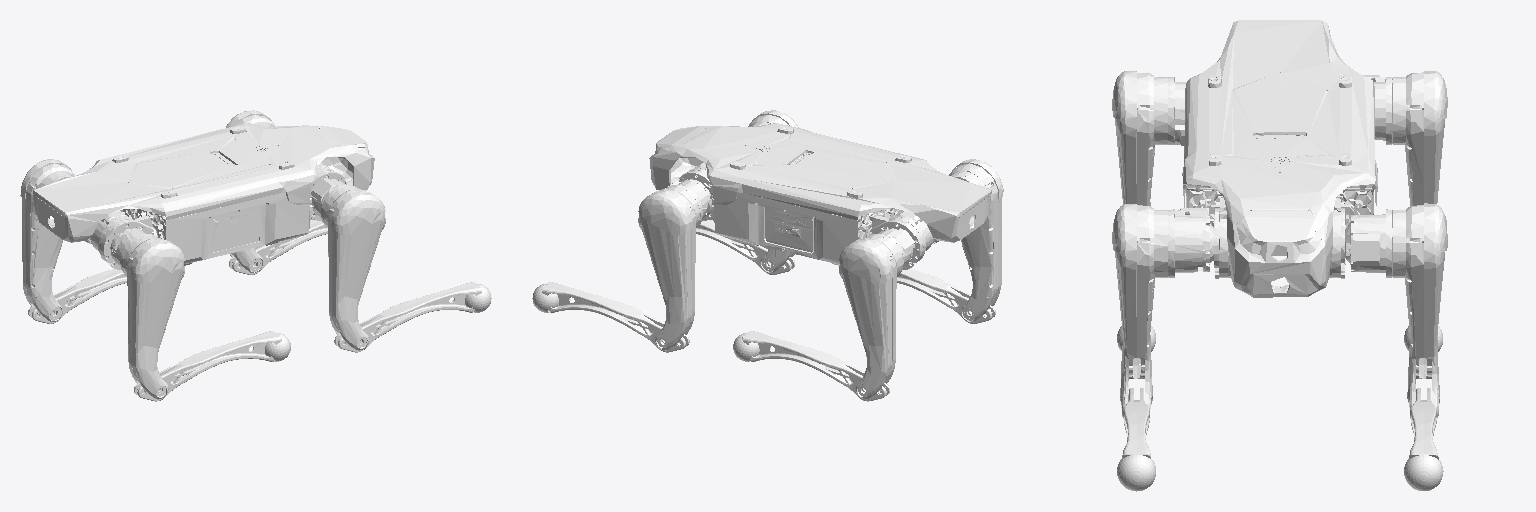
--- Facts derived from the render (not from the file) ---
The picture shows the robot from 3 angles, left to right: view 1: azimuth 30°, elevation 25°; view 2: azimuth 150°, elevation 25°; view 3: azimuth 270°, elevation 25°; orthographic projection.
Robot: Lite3 — 18 links, 17 joints (12 revolute, 5 fixed); root link TORSO; default pose: all joints at 0 but 4 set to mid-range because 0 is outside their limits (FL_Knee_joint = 1.66, FR_Knee_joint = 1.66, HL_Knee_joint = 1.66, HR_Knee_joint = 1.66).
Visible links, largest first — view 1: TORSO, FR_THIGH, HR_THIGH, HL_THIGH, HR_SHANK, FR_SHANK, HL_SHANK, HR_HIP, FL_SHANK, FL_THIGH; view 2: TORSO, HL_THIGH, FL_THIGH, HR_THIGH, FL_SHANK, HL_SHANK, HR_SHANK, HL_HIP, FR_SHANK, FR_THIGH, FL_HIP; view 3: TORSO, FR_THIGH, FL_THIGH, HL_THIGH, HR_THIGH, FL_SHANK, FR_SHANK, FR_FOOT, FL_FOOT, FR_HIP, FL_HIP.
Boxes of the visible links, x1=… form: TORSO: x1=33, y1=123, x2=374, y2=265; FR_THIGH: x1=311, y1=178, x2=385, y2=350; HR_THIGH: x1=111, y1=228, x2=184, y2=399; HL_THIGH: x1=20, y1=159, x2=74, y2=321; HR_SHANK: x1=134, y1=331, x2=281, y2=401; FR_SHANK: x1=334, y1=282, x2=481, y2=352; HL_SHANK: x1=28, y1=269, x2=126, y2=323; HR_HIP: x1=90, y1=211, x2=157, y2=269; FL_SHANK: x1=229, y1=220, x2=327, y2=274; FL_THIGH: x1=226, y1=110, x2=275, y2=272; TORSO: x1=649, y1=123, x2=991, y2=265; HL_THIGH: x1=839, y1=228, x2=914, y2=398; FL_THIGH: x1=638, y1=179, x2=711, y2=350; HR_THIGH: x1=949, y1=159, x2=1003, y2=321; FL_SHANK: x1=541, y1=282, x2=689, y2=352; HL_SHANK: x1=742, y1=331, x2=889, y2=401; HR_SHANK: x1=897, y1=269, x2=995, y2=323; HL_HIP: x1=867, y1=211, x2=933, y2=269; FR_SHANK: x1=696, y1=220, x2=794, y2=274; FR_THIGH: x1=748, y1=110, x2=798, y2=272; FL_HIP: x1=679, y1=162, x2=713, y2=220; TORSO: x1=1182, y1=20, x2=1377, y2=297; FR_THIGH: x1=1112, y1=204, x2=1213, y2=418; FL_THIGH: x1=1345, y1=203, x2=1447, y2=418; HL_THIGH: x1=1363, y1=71, x2=1447, y2=205; HR_THIGH: x1=1112, y1=71, x2=1186, y2=206; FL_SHANK: x1=1409, y1=388, x2=1438, y2=459; FR_SHANK: x1=1122, y1=388, x2=1150, y2=458; FR_FOOT: x1=1117, y1=455, x2=1155, y2=491; FL_FOOT: x1=1404, y1=455, x2=1443, y2=490; FR_HIP: x1=1210, y1=196, x2=1238, y2=278; FL_HIP: x1=1329, y1=196, x2=1350, y2=278.
Size in the robot's own frame: 0.675 by 0.3724 by 0.2928 metres.
13 mesh visuals loaded from 13 distinct referenced files (13 binary STL).

The robot description file, URDF, robot "Lite3":
<?xml version="1.0" encoding="utf-8"?>
<!-- This URDF was automatically created by SolidWorks to URDF Exporter! Originally created by Stephen Brawner ([email redacted]) 
     Commit Version: 1.6.0-4-g7f85cfe  Build Version: 1.6.7995.38578
     For more information, please see http://wiki.ros.org/sw_urdf_exporter -->
<robot name="Lite3">
    <!-- <mujoco>
        <compiler meshdir="package://lite3_description/meshes/" balanceinertia="false" discardvisual="false"/>
    </mujoco> -->
    <link name="TORSO">
        <inertial>
            <origin xyz="0 0 0" rpy="0 0 0"/>
            <mass value="5.6056"/>
            <inertia ixx="0.02456" ixy="0" ixz="0" iyy="0.05518" iyz="0" izz="0.07016"/>
        </inertial>
        <visual>
            <origin xyz="0 0 0" rpy="0 0 0"/>
            <geometry>
                <mesh filename="package://lite3_description/meshes/torso.STL"/>
            </geometry>
            <material name="">
                <color rgba="1 1 1 1"/>
            </material>
        </visual>
        <collision>
            <origin xyz="0 0 0.01" rpy="0 0 0"/>
            <geometry>
                <box size="0.5 0.1 0.12"/>
            </geometry>
        </collision>
        <collision>
            <origin xyz="0 0 0.01" rpy="0 0 0"/>
            <geometry>
                <box size="0.25 0.2 0.12"/>
            </geometry>
        </collision>
    </link>

    <!--!!!!!!!!!!!! Front Left Leg !!!!!!!!!!!!!!!!!!!!!!!!!!!!!!!!!!!!-->

    <link name="FL_HIP">
        <inertial>
            <origin xyz="-0.00601 -0.0066532 0.00034295" rpy="0 0 0"/>
            <mass value="0.550"/>
            <inertia ixx="0.0003949" ixy="0" ixz="0" iyy="0.0004028" iyz="0" izz="0.0004472"/>
        </inertial>
        <visual>
            <origin xyz="0 0 0" rpy="0 0 0"/>
            <geometry>
                <mesh filename="package://lite3_description/meshes/fl_hip.STL"/>
            </geometry>
            <material name="">
                <color rgba="1 1 1 1"/>
            </material>
        </visual>
        <collision>
            <origin xyz="0 0.05 0" rpy="1.57079632 0 0"/>
            <geometry>
                <cylinder length="0.15" radius="0.04"/>
            </geometry>
        </collision>
    </link>
    <joint name="FL_HipX_joint" type="revolute">
        <origin xyz="0.1745 0.062 0" rpy="0 0 0"/>
        <parent link="TORSO"/>
        <child link="FL_HIP"/>
        <axis xyz="-1 0 0"/>
        <limit lower="-0.523" upper="0.523" effort="24" velocity="26.2"/>
    </joint>
    <link name="FL_THIGH">
        <inertial>
            <origin xyz="-0.0052817 -0.014632 -0.042672" rpy="0 0 0"/>
            <mass value="0.86"/>
            <inertia ixx="0.005736" ixy="0" ixz="0" iyy="0.004960" iyz="0" izz="0.001436"/>
        </inertial>
        <visual>
            <origin xyz="0 0 0" rpy="0 0 0"/>
            <geometry>
                <mesh filename="package://lite3_description/meshes/fl_thigh.STL"/>
            </geometry>
            <material name="">
                <color rgba="1 1 1 1"/>
            </material>
        </visual>
        <collision>
            <origin xyz="-0.015 0 -0.08" rpy="0 0. 0"/>
            <geometry>
                <box size="0.04 0.045 0.2"/>
            </geometry>
        </collision>
    </link>
    <joint name="FL_HipY_joint" type="revolute">
        <origin xyz="0 0.09735 0" rpy="0 0 0"/>
        <parent link="FL_HIP"/>
        <child link="FL_THIGH"/>
        <axis xyz="0 -1 0"/>
        <limit lower="-2.67" upper="0.314" effort="24" velocity="26.2"/>
    </joint>
    <link name="FL_SHANK">
        <inertial>
            <origin xyz="0.0064794 -1.4535E-06 -0.12157" rpy="0 0 0"/>
            <mass value="0.153"/>
            <inertia ixx="0.00089039" ixy="0" ixz="0" iyy="0.00090672" iyz="0" izz="3.1266E-05"/>
        </inertial>
        <visual>
            <origin xyz="0 0 0" rpy="0 0 0"/>
            <geometry>
                <mesh filename="package://lite3_description/meshes/fl_shank_collision.STL"/>
            </geometry>
            <material name="">
                <color rgba="1 1 1 1"/>
            </material>
        </visual>
        <collision>
            <origin xyz="0.005 0 -0.03" rpy="0 -0.2 0"/>
            <geometry>
                <cylinder length="0.12" radius="0.015"/>
            </geometry>
        </collision>
        <collision>
            <origin xyz="0.01 0 -0.14" rpy="0 0.15 0"/>
            <geometry>
                <cylinder length="0.10" radius="0.015"/>
            </geometry>
        </collision>
    </link>
    <joint name="FL_Knee_joint" type="revolute">
        <origin xyz="0 0 -0.20" rpy="0 0 0"/>
        <parent link="FL_THIGH"/>
        <child link="FL_SHANK"/>
        <axis xyz="0 -1 0"/>
        <limit lower="0.524" upper="2.792" effort="36" velocity="17.3"/>
    </joint>

    <link name="FL_FOOT">
        <contact>
            <friction_anchor/>
            <stiffness value="30000.0"/>
            <damping value="1000.0"/>
            <spinning_friction value="0.3"/>
            <lateral_friction value="1.0"/>
        </contact>
        <collision>
            <origin rpy="1.57079632679 0 0" xyz="0 0 0"/>
            <geometry>
                <sphere radius="0.022"/>
            </geometry>
        </collision>
        <visual>
            <origin xyz="0 0 0" rpy="0 0 0"/>
            <geometry>
                <sphere radius="0.022"/>
            </geometry>
            <material name="">
                <color rgba="1 1 1 1"/>
            </material>
        </visual>
        <inertial>
            <mass value="0.02"/>
            <inertia ixx="0" ixy="0" ixz="0" iyy="0" iyz="0" izz="0"/>
        </inertial>
    </link>

    <joint name="FL_Ankle" type="fixed" dont_collapse="true">
        <parent link="FL_SHANK"/>
        <child link="FL_FOOT"/>
        <origin xyz="0 0 -0.21012"/>

    </joint>

    <!--!!!!!!!!!!!! Front Right Leg !!!!!!!!!!!!!!!!!!!!!!!!!!!!!!!!!!!!-->
    <link name="FR_HIP">
        <inertial>
            <origin xyz="-0.010579 0.011358 0.00048546" rpy="0 0 0"/>
            <mass value="0.550"/>
            <inertia ixx="0.0004472" ixy="0" ixz="0" iyy="0.0004028" iyz="0" izz="0.0003949"/>
        </inertial>
        <visual>
            <origin xyz="0 0 0" rpy="0 0 0"/>
            <geometry>
                <mesh filename="package://lite3_description/meshes/fr_hip.STL"/>
            </geometry>
            <material name="">
                <color rgba="1 1 1 1"/>
            </material>
        </visual>
        <collision>
            <origin xyz="0 -0.05 0" rpy="1.57079632 0 0"/>
            <geometry>
                <cylinder length="0.15" radius="0.04"/>
            </geometry>
        </collision>
    </link>
    <joint name="FR_HipX_joint"
           type="revolute">
        <origin xyz="0.1745 -0.062 0" rpy="0 0 0"/>
        <parent link="TORSO"/>
        <child link="FR_HIP"/>
        <axis xyz="-1 0 0"/>
        <limit lower="-0.523" upper="0.523" effort="24" velocity="26.2"/>
    </joint>
    <link name="FR_THIGH">
        <inertial>
            <origin xyz="-0.0039245 0.025256 -0.025146" rpy="0 0 0"/>
            <mass value="0.86"/>
            <!-- inertia ixx="0.00433" ixy="0.00001" ixz="0.00034" iyy="0.00403"  iyz="-0.0000186" izz="0.00143" -->
            <inertia ixx="0.005736" ixy="0" ixz="0" iyy="0.004960" iyz="0" izz="0.001436"/>
        </inertial>
        <visual>
            <origin xyz="0 0 0" rpy="0 0 0"/>
            <geometry>
                <mesh filename="package://lite3_description/meshes/fr_thigh.STL"/>
            </geometry>
            <material name="">
                <color rgba="1 1 1 1"/>
            </material>
        </visual>
        <collision>
            <origin xyz="-0.015 0 -0.08" rpy="0 0. 0"/>
            <geometry>
                <box size="0.04 0.045 0.2"/>
            </geometry>
        </collision>
    </link>
    <joint name="FR_HipY_joint" type="revolute">
        <origin xyz="0 -0.09735 0" rpy="0 0 0"/>
        <parent link="FR_HIP"/>
        <child link="FR_THIGH"/>
        <axis xyz="0 -1 0"/>
        <limit lower="-2.67" upper="0.314" effort="24" velocity="26.2"/>
    </joint>
    <link name="FR_SHANK">
        <inertial>
            <origin xyz="0.0064794 -1.4552E-06 -0.12157" rpy="0 0 0"/>
            <mass value="0.153"/>
            <inertia ixx="0.00089039" ixy="0" ixz="0" iyy="0.00090672" iyz="0" izz="3.1266E-05"/>
        </inertial>
        <visual>
            <origin xyz="0 0 0" rpy="0 0 0"/>
            <geometry>
                <mesh filename="package://lite3_description/meshes/fr_shank_collision.STL"/>
            </geometry>
            <material name="">
                <color rgba="1 1 1 1"/>
            </material>
        </visual>
        <collision>
            <origin xyz="0.005 0 -0.03" rpy="0 -0.2 0"/>
            <geometry>
                <cylinder length="0.12" radius="0.015"/>
            </geometry>
        </collision>
        <collision>
            <origin xyz="0.01 0 -0.14" rpy="0 0.15 0"/>
            <geometry>
                <cylinder length="0.10" radius="0.015"/>
            </geometry>
        </collision>
    </link>
    <joint name="FR_Knee_joint" type="revolute">
        <origin xyz="0 0 -0.20" rpy="0 0 0"/>
        <parent link="FR_THIGH"/>
        <child link="FR_SHANK"/>
        <axis xyz="0 -1 0"/>
        <limit lower="0.524" upper="2.792" effort="36" velocity="17.3"/>
    </joint>

    <link name="FR_FOOT">
        <contact>
            <friction_anchor/>
            <stiffness value="30000.0"/>
            <damping value="1000.0"/>
            <spinning_friction value="0.3"/>
            <lateral_friction value="1.0"/>
        </contact>
        <collision>
            <origin rpy="1.57079632679 0 0" xyz="0 0 0"/>
            <geometry>
                <sphere radius="0.022"/>
            </geometry>
        </collision>
        <visual>
            <origin xyz="0 0 0" rpy="0 0 0"/>
            <geometry>
                <sphere radius="0.022"/>
            </geometry>
            <material name="">
                <color rgba="1 1 1 1"/>
            </material>
        </visual>
        <inertial>
            <mass value="0.02"/>
            <inertia ixx="0" ixy="0" ixz="0" iyy="0" iyz="0" izz="0"/>
        </inertial>
    </link>

    <joint name="FR_Ankle" type="fixed" dont_collapse="true">
        <parent link="FR_SHANK"/>
        <child link="FR_FOOT"/>
        <origin xyz="0 0 -0.21012"/>

    </joint>

    <!--!!!!!!!!!!!! Back Left Leg !!!!!!!!!!!!!!!!!!!!!!!!!!!!!!!!!!!!-->
    <link name="HL_HIP">
        <inertial>
            <origin xyz="0.010905 -0.012636 0.001051" rpy="0 0 0"/>
            <mass value="0.550"/>
            <inertia ixx="0.0003949" ixy="0" ixz="0" iyy="0.0004028" iyz="0" izz="0.0004472"/>
        </inertial>
        <visual>
            <origin xyz="0 0 0" rpy="0 0 0"/>
            <geometry>
                <mesh filename="package://lite3_description/meshes/hl_hip.STL"/>
            </geometry>
            <material name="">
                <color rgba="1 1 1 1"/>
            </material>
        </visual>
        <collision>
            <origin xyz="0 0.05 0" rpy="1.57079632 0 0"/>
            <geometry>
                <cylinder length="0.15" radius="0.04"/>
            </geometry>
        </collision>
    </link>
    <joint name="HL_HipX_joint" type="revolute">
        <origin xyz="-0.1745 0.062 0" rpy="0 0 0"/>
        <parent link="TORSO"/>
        <child link="HL_HIP"/>
        <axis xyz="-1 0 0"/>
        <limit lower="-0.523" upper="0.523" effort="24" velocity="26.2"/>
    </joint>
    <link name="HL_THIGH">
        <inertial>
            <origin xyz="-0.0057137 -0.014631 -0.042453" rpy="0 0 0"/>
            <mass value="0.86"/>
            <inertia ixx="0.005736" ixy="0" ixz="0" iyy="0.004960" iyz="0" izz="0.001436"/>
        </inertial>
        <visual>
            <origin xyz="0 0 0" rpy="0 0 0"/>
            <geometry>
                <mesh filename="package://lite3_description/meshes/hl_thigh.STL"/>
            </geometry>
            <material name="">
                <color rgba="1 1 1 1"/>
            </material>
        </visual>
        <collision>
            <origin xyz="-0.015 0 -0.08" rpy="0 0. 0"/>
            <geometry>
                <box size="0.04 0.045 0.2"/>
            </geometry>
        </collision>
    </link>
    <joint name="HL_HipY_joint" type="revolute">
        <origin xyz="0 0.09735 0" rpy="0 0 0"/>
        <parent link="HL_HIP"/>
        <child link="HL_THIGH"/>
        <axis xyz="0 -1 0"/>
        <limit lower="-2.67" upper="0.314" effort="24" velocity="26.2"/>
    </joint>
    <link name="HL_SHANK">
        <inertial>
            <origin xyz="0.0064794 -1.4558E-06 -0.12157" rpy="0 0 0"/>
            <mass value="0.153"/>
            <inertia ixx="0.00089039" ixy="0" ixz="0" iyy="0.00090672" iyz="0" izz="3.1266E-05"/>
        </inertial>
        <visual>
            <origin xyz="0 0 0" rpy="0 0 0"/>
            <geometry>
                <mesh filename="package://lite3_description/meshes/hl_shank_collision.STL"/>
            </geometry>
            <material name="">
                <color rgba="1 1 1 1"/>
            </material>
        </visual>
        <collision>
            <origin xyz="0.005 0 -0.03" rpy="0 -0.2 0"/>
            <geometry>
                <cylinder length="0.12" radius="0.015"/>
            </geometry>
        </collision>
        <collision>
            <origin xyz="0.01 0 -0.14" rpy="0 0.15 0"/>
            <geometry>
                <cylinder length="0.10" radius="0.015"/>
            </geometry>
        </collision>
    </link>
    <joint name="HL_Knee_joint" type="revolute">
        <origin xyz="0 0 -0.20" rpy="0 0 0"/>
        <parent link="HL_THIGH"/>
        <child link="HL_SHANK"/>
        <axis xyz="0 -1 0"/>
        <limit lower="0.524" upper="2.792" effort="36" velocity="17.3"/>
    </joint>

    <link name="HL_FOOT">
        <contact>
            <friction_anchor/>
            <stiffness value="30000.0"/>
            <damping value="1000.0"/>
            <spinning_friction value="0.3"/>
            <lateral_friction value="1.0"/>
        </contact>
        <collision>
            <origin rpy="1.57079632679 0 0" xyz="0 0 0"/>
            <geometry>
                <sphere radius="0.022"/>
            </geometry>
        </collision>
        <visual>
            <origin xyz="0 0 0" rpy="0 0 0"/>
            <geometry>
                <sphere radius="0.022"/>
            </geometry>
            <material name="">
                <color rgba="1 1 1 1"/>
            </material>
        </visual>
        <inertial>
            <mass value="0.02"/>
            <inertia ixx="0" ixy="0" ixz="0" iyy="0" iyz="0" izz="0"/>
        </inertial>
    </link>

    <joint name="HL_Ankle" type="fixed" dont_collapse="true">
        <parent link="HL_SHANK"/>
        <child link="HL_FOOT"/>
        <origin xyz="0 0 -0.21012"/>

    </joint>
    <!--!!!!!!!!!!!! Back Right Leg !!!!!!!!!!!!!!!!!!!!!!!!!!!!!!!!!!!!-->

    <link name="HR_HIP">
        <inertial>
            <origin xyz="0.010354 0.011423 0.00049498" rpy="0 0 0"/>
            <mass value="0.550"/>
            <inertia ixx="0.0004472" ixy="0" ixz="0" iyy="0.0004028" iyz="0" izz="0.0003949"/>
        </inertial>
        <visual>
            <origin xyz="0 0 0" rpy="0 0 0"/>
            <geometry>
                <mesh filename="package://lite3_description/meshes/hr_hip.STL"/>
            </geometry>
            <material name="">
                <color rgba="1 1 1 1"/>
            </material>
        </visual>
        <collision>
            <origin xyz="0 -0.05 0" rpy="1.57079632 0 0"/>
            <geometry>
                <cylinder length="0.15" radius="0.04"/>
            </geometry>
        </collision>
    </link>
    <joint name="HR_HipX_joint" type="revolute">
        <origin xyz="-0.1745 -0.062 0" rpy="0 0 0"/>
        <parent link="TORSO"/>
        <child link="HR_HIP"/>
        <axis xyz="-1 0 0"/>
        <limit lower="-0.523" upper="0.523" effort="24" velocity="26.2"/>
    </joint>
    <link name="HR_THIGH">
        <inertial>
            <origin xyz="-0.0031903 0.02526 -0.025617" rpy="0 0 0"/>
            <mass value="0.86"/>
            <inertia ixx="0.005736" ixy="0" ixz="0" iyy="0.004960" iyz="0" izz="0.001436"/>
        </inertial>
        <visual>
            <origin xyz="0 0 0" rpy="0 0 0"/>
            <geometry>
                <mesh filename="package://lite3_description/meshes/hr_thigh.STL"/>
            </geometry>
            <material name="">
                <color rgba="1 1 1 1"/>
            </material>
        </visual>
        <collision>
            <origin xyz="-0.015 0 -0.08" rpy="0 0. 0"/>
            <geometry>
                <box size="0.04 0.045 0.2"/>
            </geometry>
        </collision>
    </link>
    <joint name="HR_HipY_joint" type="revolute">
        <origin xyz="0 -0.09735 0" rpy="0 0 0"/>
        <parent link="HR_HIP"/>
        <child link="HR_THIGH"/>
        <axis xyz="0 -1 0"/>
        <limit lower="-2.67" upper="0.314" effort="24" velocity="26.2"/>
    </joint>
    <link name="HR_SHANK">
        <inertial>
            <origin xyz="0.0064794 -1.4529E-06 -0.12157" rpy="0 0 0"/>
            <mass value="0.153"/>
            <inertia ixx="0.00089039" ixy="0" ixz="0" iyy="0.00090672" iyz="0" izz="3.1266E-05"/>
        </inertial>
        <visual>
            <origin xyz="0 0 0" rpy="0 0 0"/>
            <geometry>
                <mesh filename="package://lite3_description/meshes/hr_shank_collision.STL"/>
            </geometry>
            <material name="">
                <color rgba="1 1 1 1"/>
            </material>
        </visual>
        <collision>
            <origin xyz="0.005 0 -0.03" rpy="0 -0.2 0"/>
            <geometry>
                <cylinder length="0.12" radius="0.015"/>
            </geometry>
        </collision>
        <collision>
            <origin xyz="0.01 0 -0.14" rpy="0 0.15 0"/>
            <geometry>
                <cylinder length="0.10" radius="0.015"/>
            </geometry>
        </collision>
    </link>
    <joint name="HR_Knee_joint" type="revolute">
        <origin xyz="0 0 -0.20" rpy="0 0 0"/>
        <parent link="HR_THIGH"/>
        <child link="HR_SHANK"/>
        <axis xyz="0 -1 0"/>
        <limit lower="0.524" upper="2.792" effort="36" velocity="17.3"/>
    </joint>

    <link name="HR_FOOT">
        <contact>
            <friction_anchor/>
            <stiffness value="30000.0"/>
            <damping value="1000.0"/>
            <spinning_friction value="0.3"/>
            <lateral_friction value="1.0"/>
        </contact>
        <collision>
            <origin rpy="1.57079632679 0 0" xyz="0 0 0"/>
            <geometry>
                <sphere radius="0.022"/>
            </geometry>
        </collision>
        <visual>
            <origin xyz="0 0 0" rpy="0 0 0"/>
            <geometry>
                <sphere radius="0.022"/>
            </geometry>
            <material name="">
                <color rgba="1 1 1 1"/>
            </material>
        </visual>
        <inertial>
            <mass value="0.02"/>
            <inertia ixx="0" ixy="0" ixz="0" iyy="0" iyz="0" izz="0"/>
        </inertial>
    </link>

    <joint name="HR_Ankle" type="fixed" dont_collapse="true">
        <parent link="HR_SHANK"/>
        <child link="HR_FOOT"/>
        <origin xyz="0 0 -0.21012"/>

    </joint>

    <link name="imu_link">
      <inertial>
        <origin xyz="0 0 0" rpy="0 0 0" />
        <mass value="0" />
        <inertia ixx="0" ixy="0" ixz="0" iyy="0" iyz="0" izz="0" />
      </inertial>
    </link>
    <joint name="imu_joint" type="fixed">
      <origin xyz="-0.02557 0 0.04232" rpy="0 0 0" />
      <parent link="TORSO" />
      <child link="imu_link" />
      <axis xyz="0 0 0" />
    </joint>


  <transmission name="FL_HipX_tran">
    <type>transmission_interface/SimpleTransmission</type>
    <joint name="FL_HipX_joint">
      <hardwareInterface>hardware_interface/EffortJointInterface</hardwareInterface>
    </joint>
    <actuator name="FL_HipX_motor">
      <hardwareInterface>hardware_interface/EffortJointInterface</hardwareInterface>
      <mechanicalReduction>1</mechanicalReduction>
    </actuator>
  </transmission>
  <transmission name="FL_HipY_tran">
    <type>transmission_interface/SimpleTransmission</type>
    <joint name="FL_HipY_joint">
      <hardwareInterface>hardware_interface/EffortJointInterface</hardwareInterface>
    </joint>
    <actuator name="FL_HipY_motor">
      <hardwareInterface>hardware_interface/EffortJointInterface</hardwareInterface>
      <mechanicalReduction>1</mechanicalReduction>
    </actuator>
  </transmission>
  <transmission name="FL_Knee_tran">
    <type>transmission_interface/SimpleTransmission</type>
    <joint name="FL_Knee_joint">
      <hardwareInterface>hardware_interface/EffortJointInterface</hardwareInterface>
    </joint>
    <actuator name="FL_Knee_motor">
      <hardwareInterface>hardware_interface/EffortJointInterface</hardwareInterface>
      <mechanicalReduction>1</mechanicalReduction>
    </actuator>
  </transmission>

  <transmission name="FR_HipX_tran">
    <type>transmission_interface/SimpleTransmission</type>
    <joint name="FR_HipX_joint">
      <hardwareInterface>hardware_interface/EffortJointInterface</hardwareInterface>
    </joint>
    <actuator name="FR_HipX_motor">
      <hardwareInterface>hardware_interface/EffortJointInterface</hardwareInterface>
      <mechanicalReduction>1</mechanicalReduction>
    </actuator>
  </transmission>
  <transmission name="FR_HipY_tran">
    <type>transmission_interface/SimpleTransmission</type>
    <joint name="FR_HipY_joint">
      <hardwareInterface>hardware_interface/EffortJointInterface</hardwareInterface>
    </joint>
    <actuator name="FR_HipY_motor">
      <hardwareInterface>hardware_interface/EffortJointInterface</hardwareInterface>
      <mechanicalReduction>1</mechanicalReduction>
    </actuator>
  </transmission>
  <transmission name="FR_Knee_tran">
    <type>transmission_interface/SimpleTransmission</type>
    <joint name="FR_Knee_joint">
      <hardwareInterface>hardware_interface/EffortJointInterface</hardwareInterface>
    </joint>
    <actuator name="FR_Knee_motor">
      <hardwareInterface>hardware_interface/EffortJointInterface</hardwareInterface>
      <mechanicalReduction>1</mechanicalReduction>
    </actuator>
  </transmission>

  <transmission name="HL_HipX_tran">
    <type>transmission_interface/SimpleTransmission</type>
    <joint name="HL_HipX_joint">
      <hardwareInterface>hardware_interface/EffortJointInterface</hardwareInterface>
    </joint>
    <actuator name="HL_HipX_motor">
      <hardwareInterface>hardware_interface/EffortJointInterface</hardwareInterface>
      <mechanicalReduction>1</mechanicalReduction>
    </actuator>
  </transmission>
  <transmission name="HL_HipY_tran">
    <type>transmission_interface/SimpleTransmission</type>
    <joint name="HL_HipY_joint">
      <hardwareInterface>hardware_interface/EffortJointInterface</hardwareInterface>
    </joint>
    <actuator name="HL_HipY_motor">
      <hardwareInterface>hardware_interface/EffortJointInterface</hardwareInterface>
      <mechanicalReduction>1</mechanicalReduction>
    </actuator>
  </transmission>
  <transmission name="HL_Knee_tran">
    <type>transmission_interface/SimpleTransmission</type>
    <joint name="HL_Knee_joint">
      <hardwareInterface>hardware_interface/EffortJointInterface</hardwareInterface>
    </joint>
    <actuator name="HL_Knee_motor">
      <hardwareInterface>hardware_interface/EffortJointInterface</hardwareInterface>
      <mechanicalReduction>1</mechanicalReduction>
    </actuator>
  </transmission>

  <transmission name="HR_HipX_tran">
    <type>transmission_interface/SimpleTransmission</type>
    <joint name="HR_HipX_joint">
      <hardwareInterface>hardware_interface/EffortJointInterface</hardwareInterface>
    </joint>
    <actuator name="HR_HipX_motor">
      <hardwareInterface>hardware_interface/EffortJointInterface</hardwareInterface>
      <mechanicalReduction>1</mechanicalReduction>
    </actuator>
  </transmission>
  <transmission name="HR_HipY_tran">
    <type>transmission_interface/SimpleTransmission</type>
    <joint name="HR_HipY_joint">
      <hardwareInterface>hardware_interface/EffortJointInterface</hardwareInterface>
    </joint>
    <actuator name="HR_HipY_motor">
      <hardwareInterface>hardware_interface/EffortJointInterface</hardwareInterface>
      <mechanicalReduction>1</mechanicalReduction>
    </actuator>
  </transmission>
  <transmission name="HR_Knee_tran">
    <type>transmission_interface/SimpleTransmission</type>
    <joint name="HR_Knee_joint">
      <hardwareInterface>hardware_interface/EffortJointInterface</hardwareInterface>
    </joint>
    <actuator name="HR_Knee_motor">
      <hardwareInterface>hardware_interface/EffortJointInterface</hardwareInterface>
      <mechanicalReduction>1</mechanicalReduction>
    </actuator>
  </transmission>

</robot>
